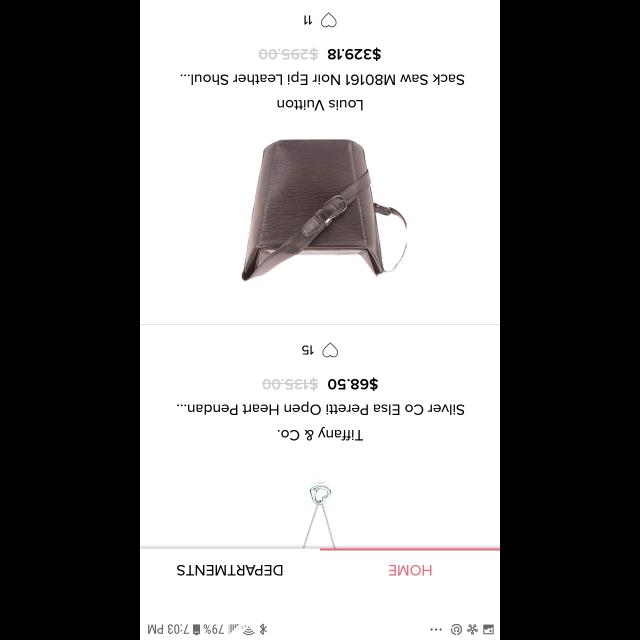icon: (320, 12, 336, 28), (322, 342, 338, 358)
image: (242, 140, 406, 284), (302, 484, 336, 548)
text: (178, 401, 464, 415), (180, 71, 464, 85), (259, 47, 381, 61), (262, 377, 378, 391), (177, 564, 283, 576), (278, 427, 362, 441), (278, 100, 362, 110), (388, 564, 432, 576), (302, 345, 314, 355), (304, 15, 312, 25)
uppertaskbar: (140, 622, 500, 640)
